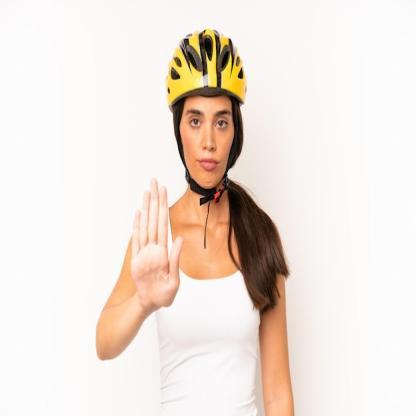stop: (130, 175, 186, 314)
